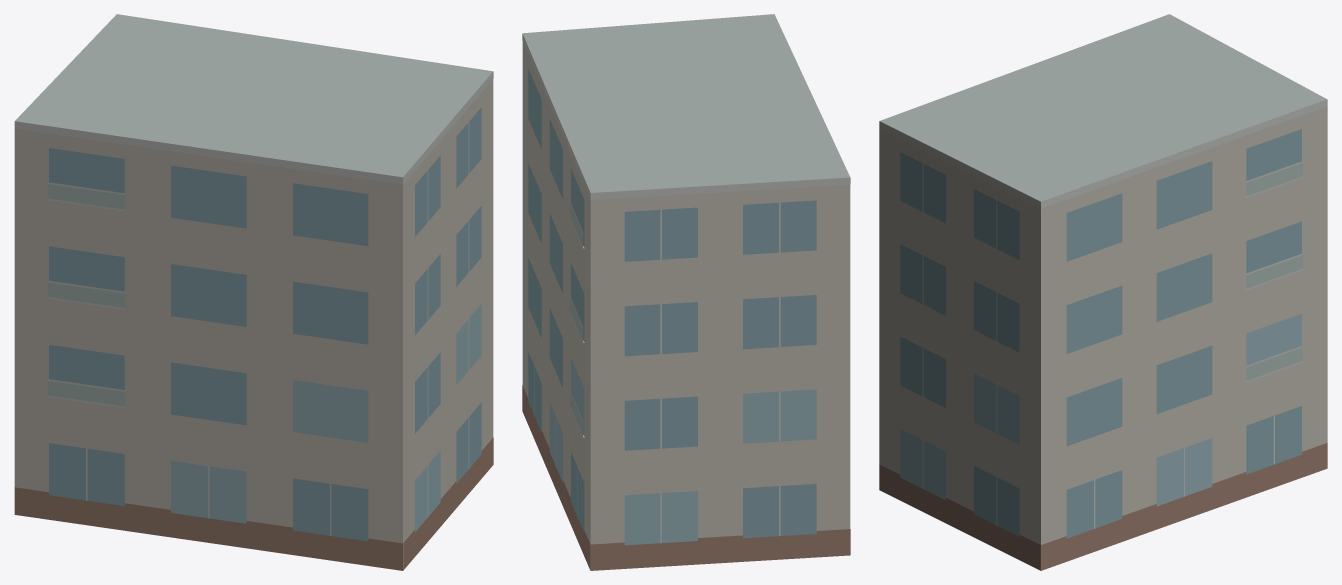
The model's file is survey-upis-33006430.glb.
3 renders of one model, left to right at view 1: azimuth 30°, elevation 25°; view 2: azimuth 150°, elevation 25°; view 3: azimuth 270°, elevation 25°, orthographic. The views are drawn at different scales.
Parts seen in each view (by area): view 1: survey-upis-33006430.tmp; view 2: survey-upis-33006430.tmp; view 3: survey-upis-33006430.tmp.
Boxes of the visible parts, <box> form: survey-upis-33006430.tmp: <box>14,14,493,570</box>; survey-upis-33006430.tmp: <box>522,14,850,570</box>; survey-upis-33006430.tmp: <box>879,14,1327,570</box>.
Size of the model in its own units: 13.97 by 12.8 by 14.09.
